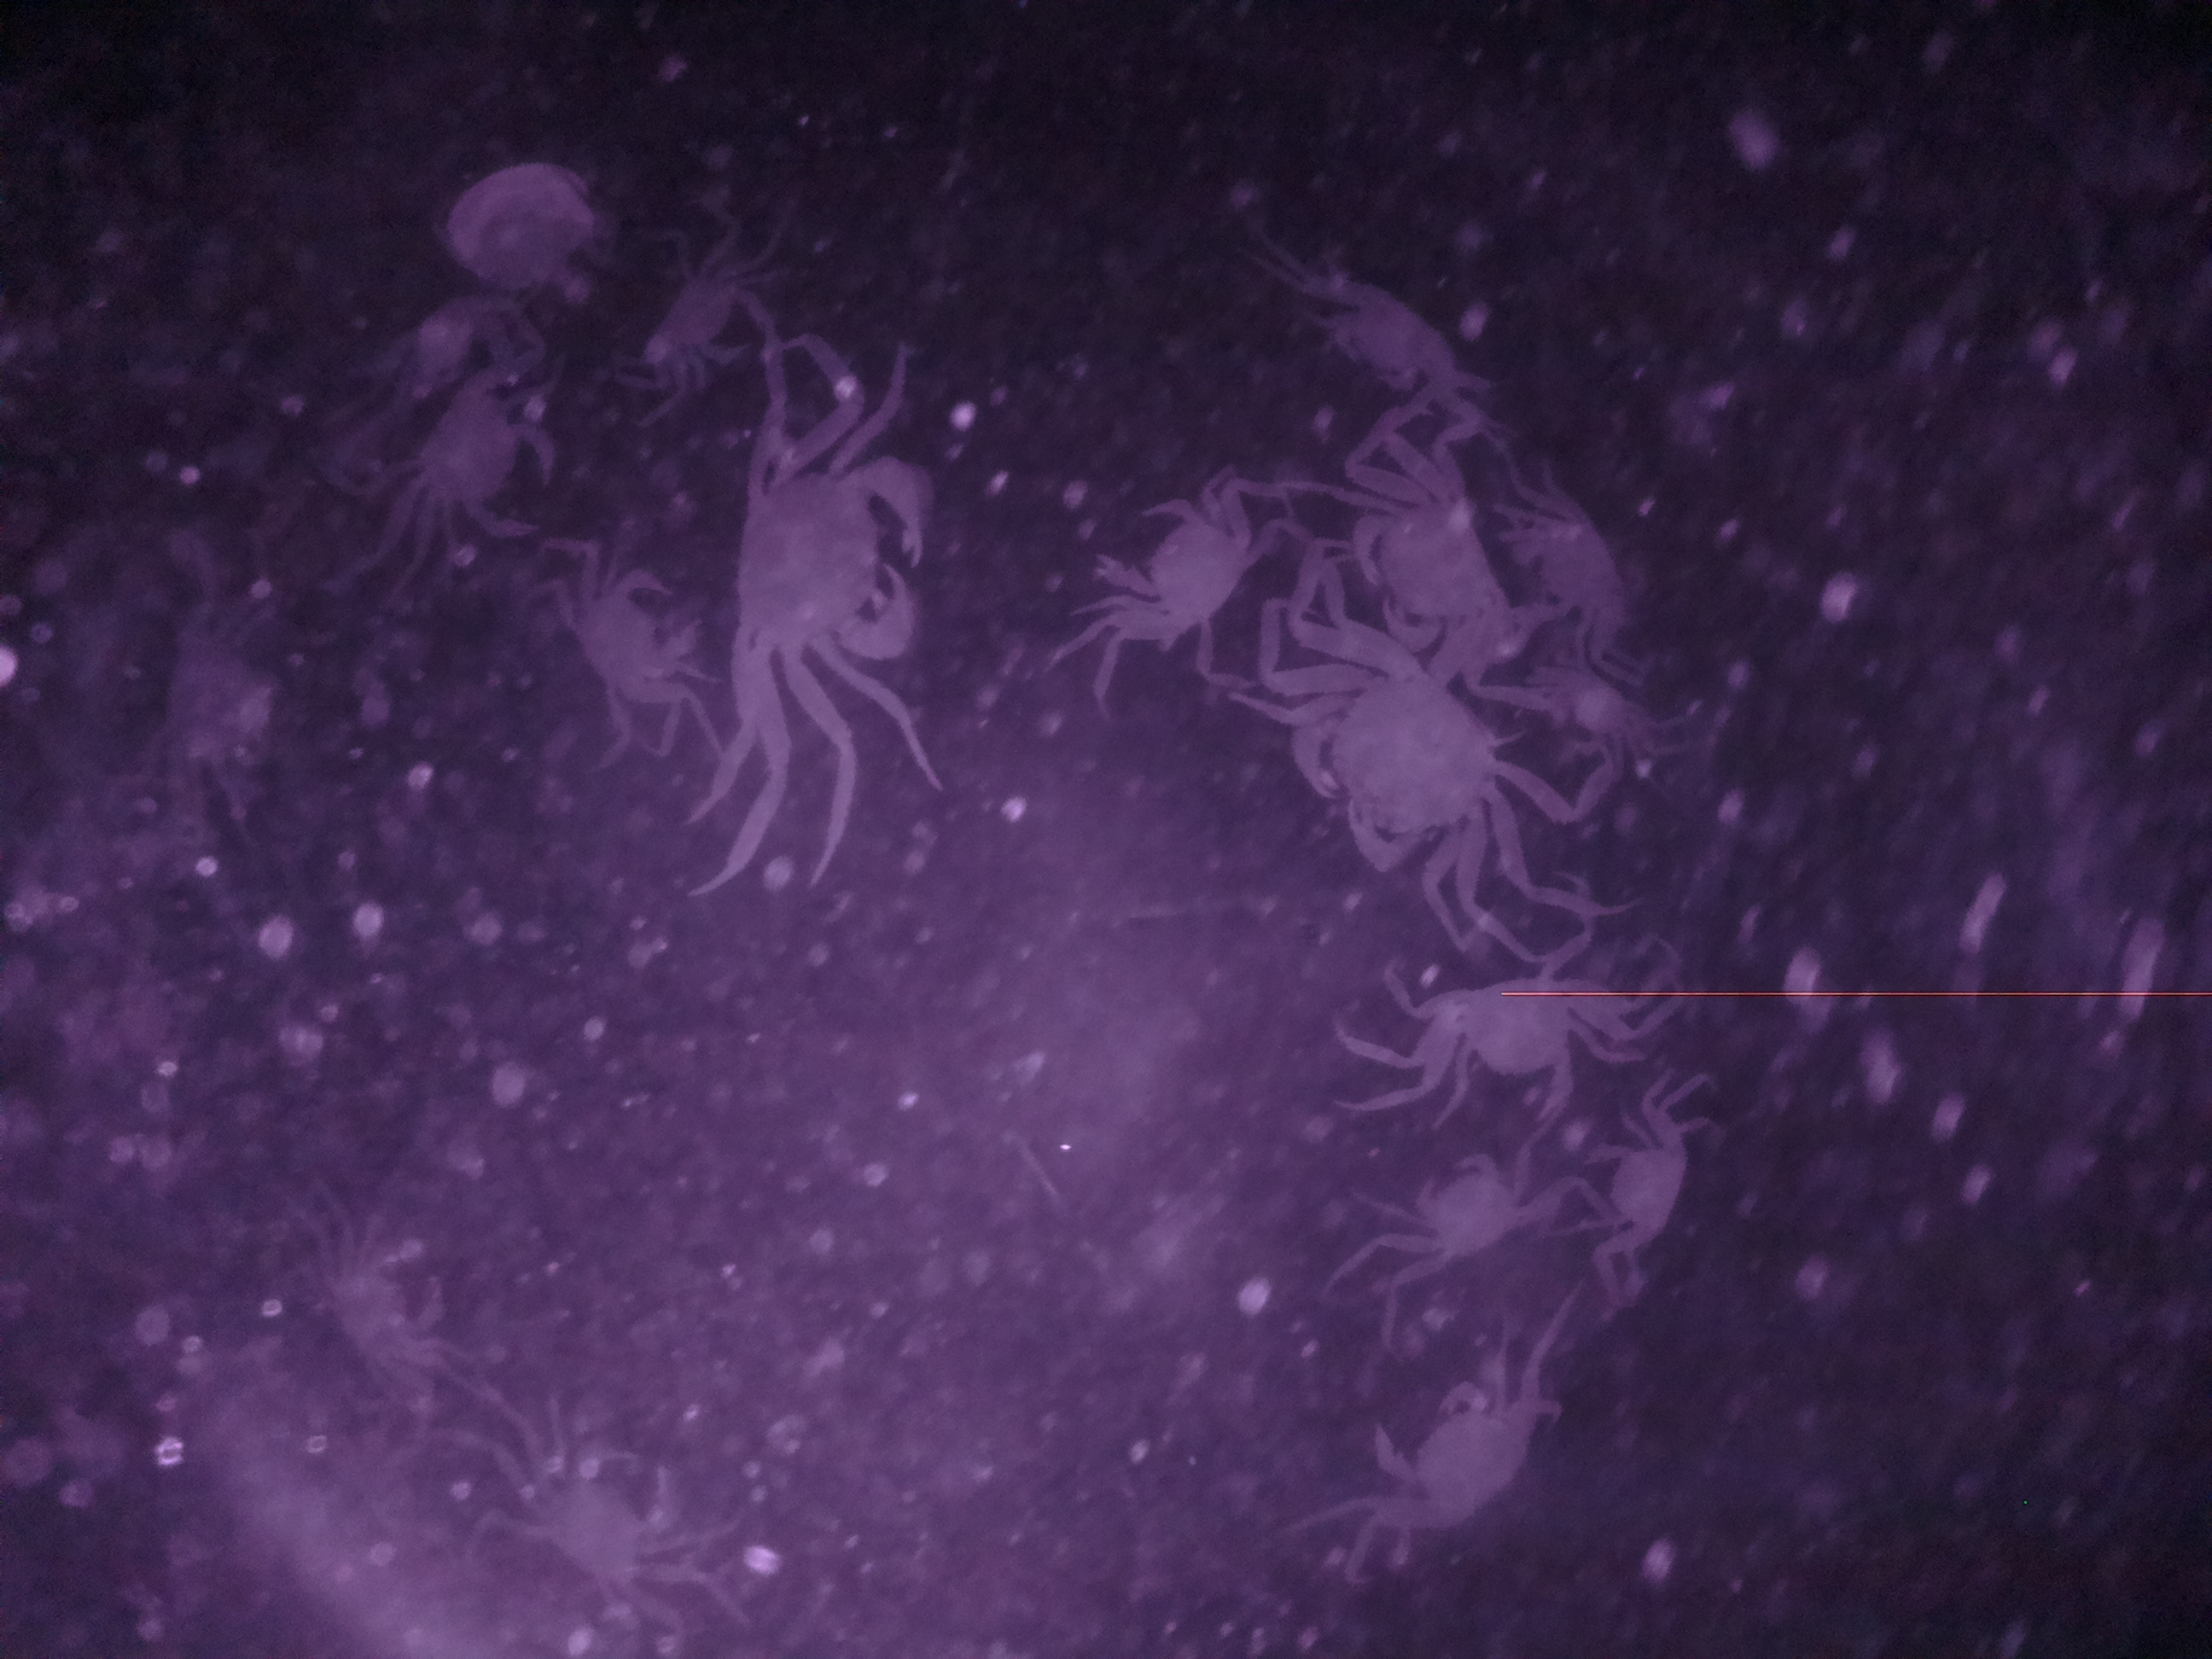Crab: (707, 416, 965, 687), (1280, 626, 1527, 896), (1069, 477, 1266, 650), (1360, 1370, 1554, 1542), (566, 542, 712, 760), (1576, 1096, 1721, 1270), (1376, 1148, 1548, 1290)
